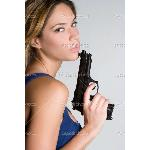Pistol: (72, 49, 116, 120)
